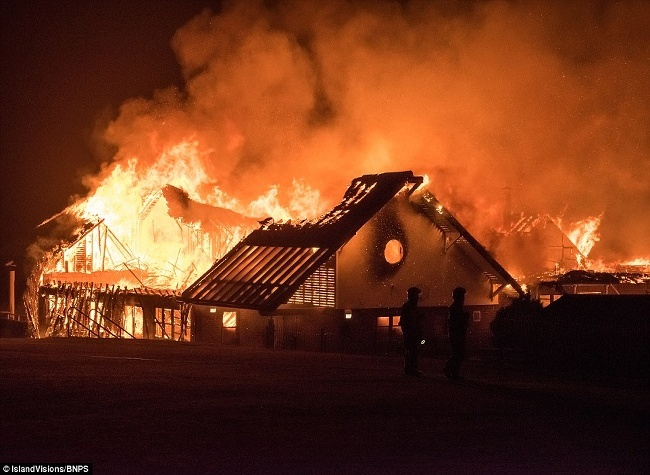Fire: (98, 187, 172, 271)
Smoke: (216, 89, 476, 181)
